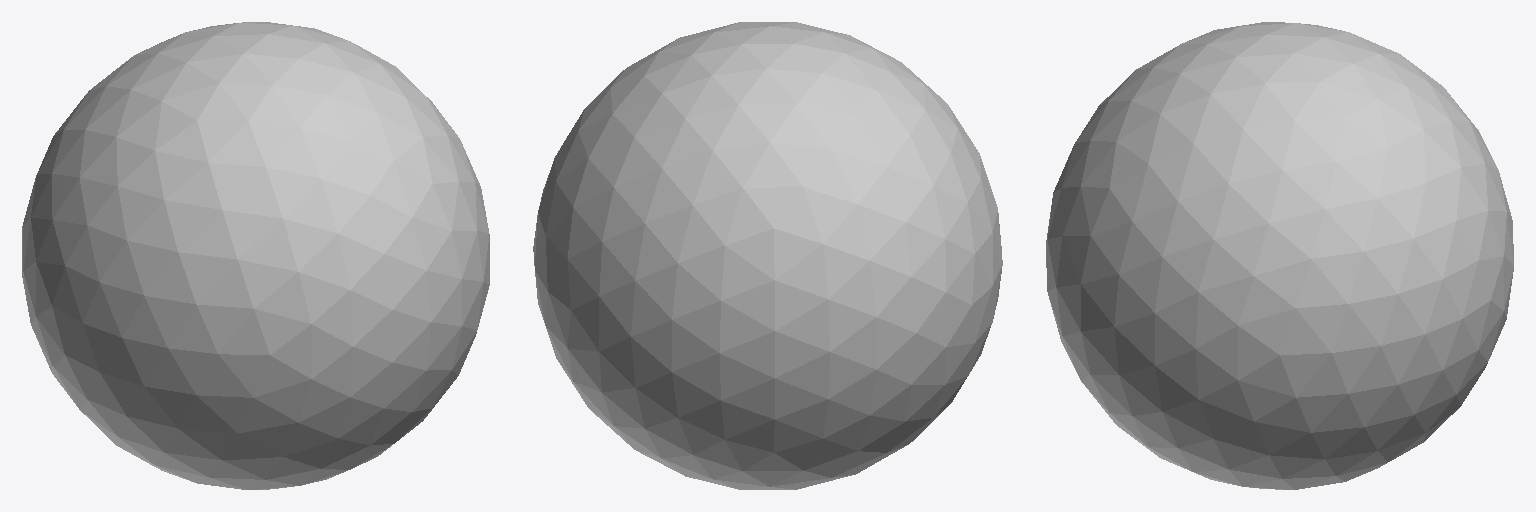
File: pacman_close.obj
3 views of the same model, side by side, from view 1: azimuth 30°, elevation 25°; view 2: azimuth 150°, elevation 25°; view 3: azimuth 270°, elevation 25° (orthographic).
Visible parts, largest first — view 1: GeoSphere001; view 2: GeoSphere001; view 3: GeoSphere001.
Part boxes in pixels (x1,y1,x2,y2): GeoSphere001: (22, 22, 489, 489); GeoSphere001: (533, 22, 1002, 489); GeoSphere001: (1046, 22, 1513, 489).
Size of the model in its own units: 2 by 1.99 by 1.99.